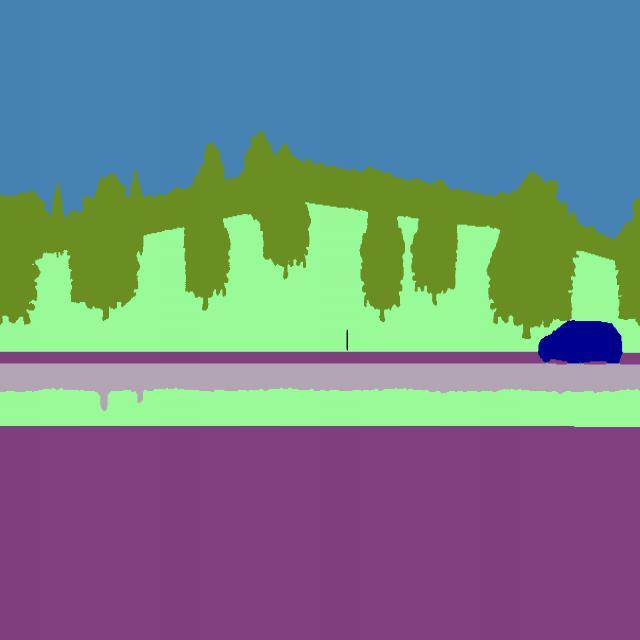safe: (534, 310, 632, 372)
